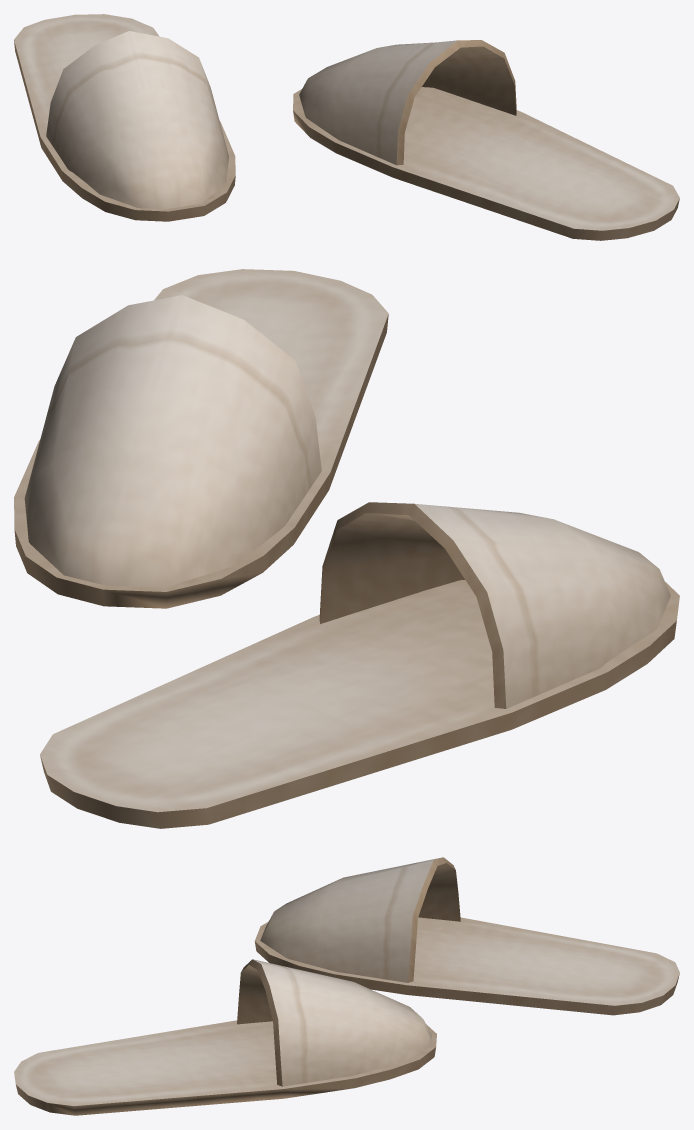
Rendered from DanShenGongYu_01_TuoXie_01_uv2.fbx.
3 views of the same model, one above another, from view 1: azimuth 30°, elevation 25°; view 2: azimuth 150°, elevation 25°; view 3: azimuth 270°, elevation 25° (orthographic). The views are drawn at different scales.
Visible parts, largest first — view 1: Object003; view 2: Object003; view 3: Object003.
Boxes of the visible parts, bbox=[...] form: Object003: bbox=[14, 14, 679, 240]; Object003: bbox=[14, 269, 679, 828]; Object003: bbox=[14, 857, 679, 1115].
Size of the model in its own units: 223 by 53.32 by 314.
